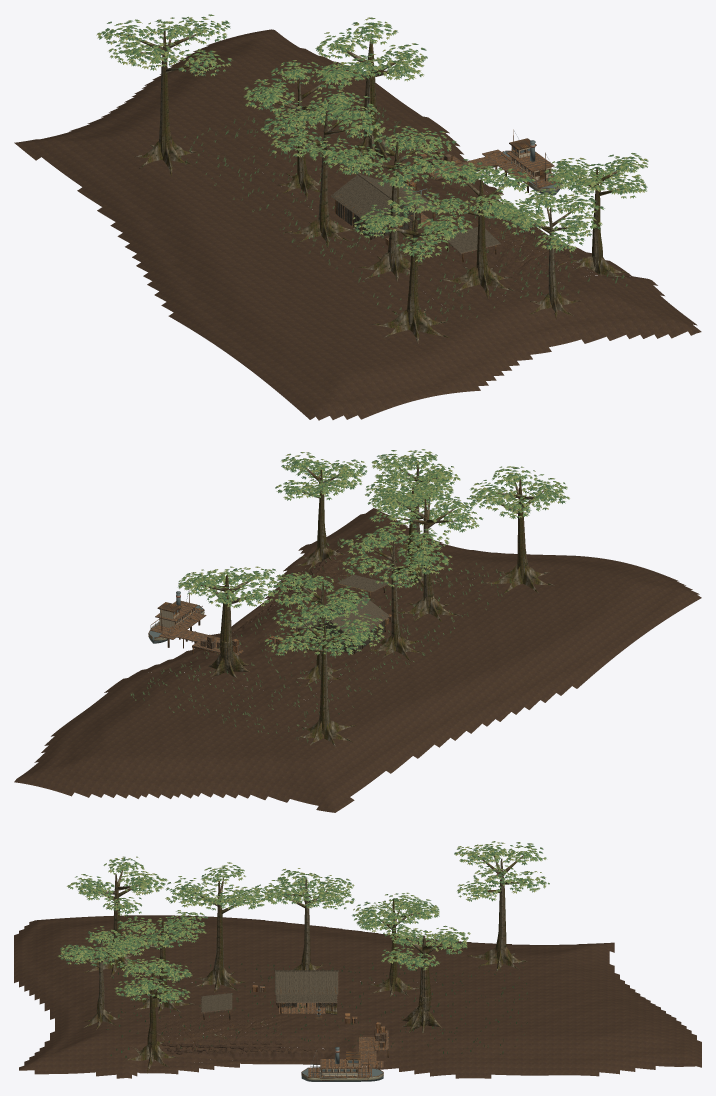
The model's file is congo.glb.
3 views of the same model, one above another, from view 1: azimuth 30°, elevation 25°; view 2: azimuth 150°, elevation 25°; view 3: azimuth 270°, elevation 25° (orthographic). The views are drawn at different scales.
Parts seen in each view (by area): view 1: Laterite, LeafLight, LeafDeep, LeafMid, Bark, RoofThatch, Timber, Grass, DarkTimber, WornLaterite, BarkSculpt, WallBoards; view 2: Laterite, LeafDeep, LeafLight, LeafMid, Bark, Timber, Grass, RoofThatch, DarkTimber, BarkSculpt, WornLaterite; view 3: Laterite, LeafLight, LeafDeep, LeafMid, Bark, RoofThatch, Timber, Grass, WornLaterite, DarkTimber, Iron, BankMud (+2 smaller).
Part boxes in pixels (x1,y1,x2,y2): Laterite: (14,29,701,420); LeafLight: (96,17,648,261); LeafDeep: (99,17,648,262); LeafMid: (97,14,647,261); Bark: (128,31,628,343); RoofThatch: (330,173,500,254); Timber: (359,129,562,245); Grass: (180,101,627,320); DarkTimber: (332,138,557,262); WornLaterite: (438,217,577,264); BarkSculpt: (350,98,399,162); WallBoards: (336,201,418,238); Laterite: (14,508,701,812); LeafDeep: (178,450,566,656); LeafLight: (178,449,569,654); LeafMid: (178,449,569,655); Bark: (200,461,554,746); Timber: (148,589,391,655); Grass: (130,538,511,742); RoofThatch: (295,574,389,636); DarkTimber: (148,561,390,654); BarkSculpt: (208,640,249,678); WornLaterite: (305,557,341,613); Laterite: (14,915,701,1078); LeafLight: (57,841,545,1003); LeafDeep: (58,841,549,1002); LeafMid: (58,841,549,1003); Bark: (78,855,527,1073); RoofThatch: (201,970,338,1013); Timber: (252,985,388,1080); Grass: (106,962,527,1057); WornLaterite: (156,1016,283,1044); DarkTimber: (179,970,388,1078); Iron: (301,1006,383,1081); BankMud: (160,1043,317,1054).
Size of the model in its own units: 77.31 by 25.66 by 134.
Materials: 23 (17 with a texture image).
